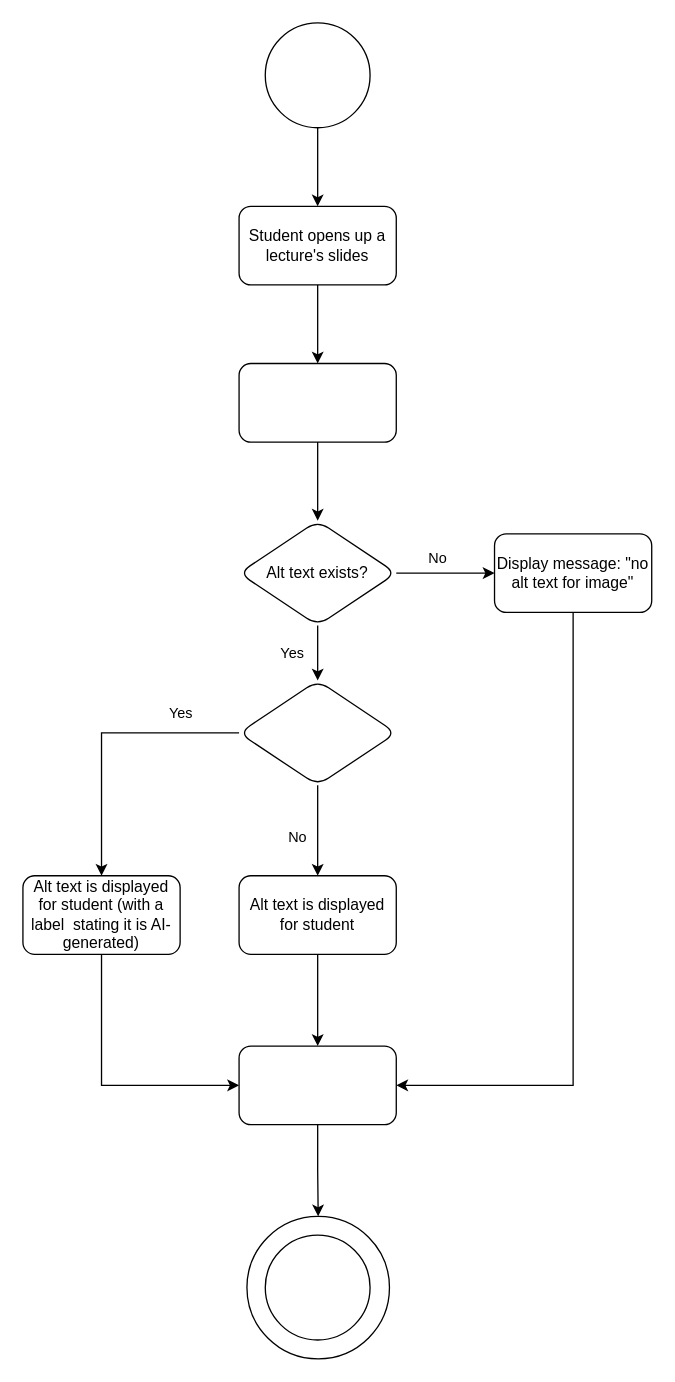
The diagram is 675 pixels wide and 1382 high, and some of its shapes have lost their labels. Each missing label, with the centre of its shape:
Alt text AI generated?: [317,732]
Student clicks on an image in the slides: [317,402]
Student dismisses alt text/error message: [317,1085]
